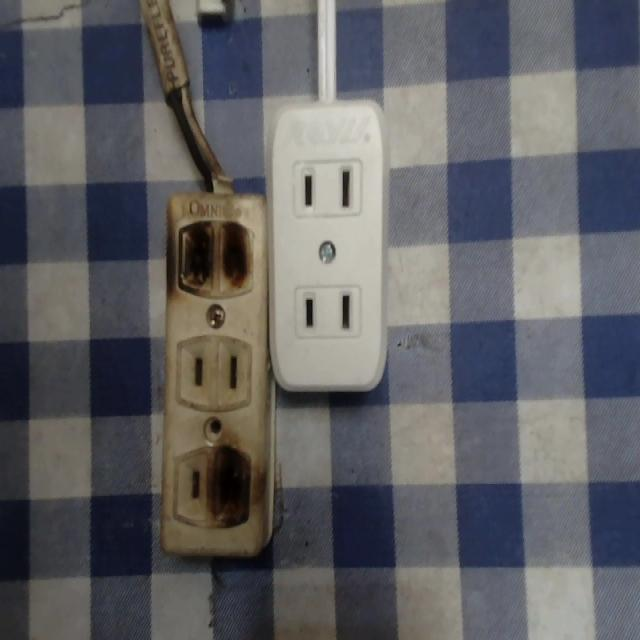-: (159, 214, 261, 294), (200, 442, 255, 526)
